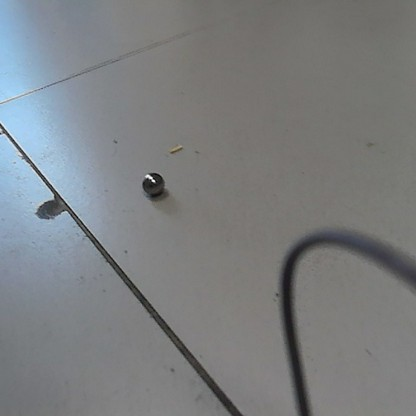ironball: (137, 168, 166, 199)
